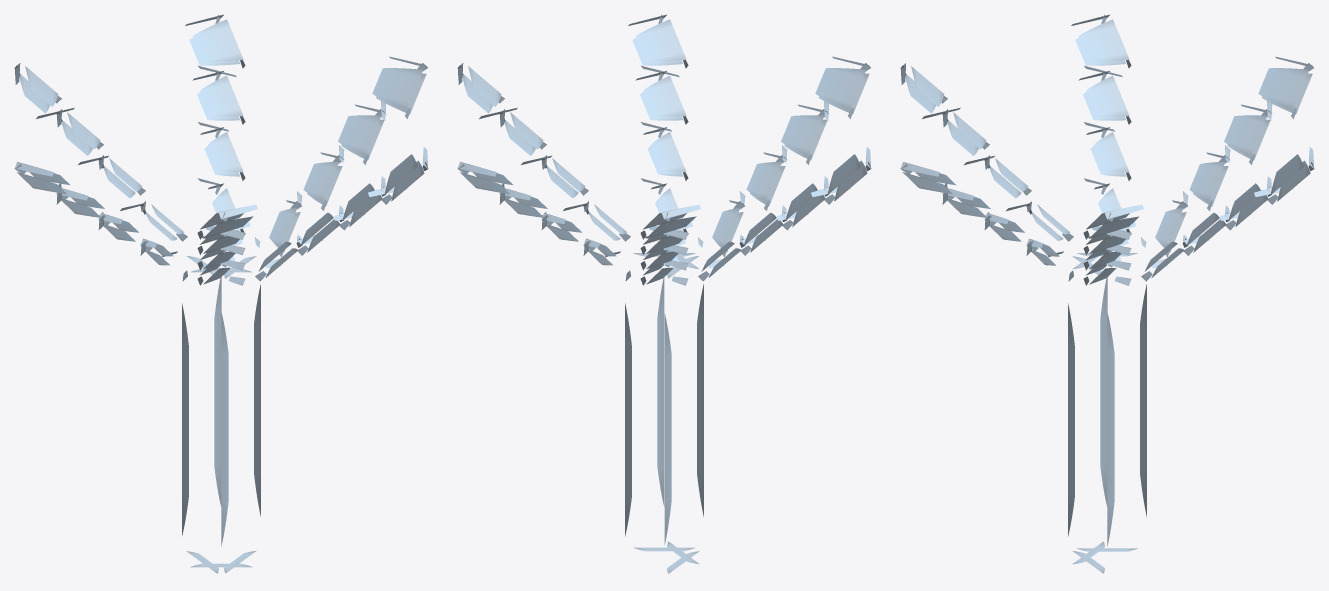
Rendered from rotor_glass.obj.
3 views of the same model, side by side, from view 1: azimuth 30°, elevation 25°; view 2: azimuth 150°, elevation 25°; view 3: azimuth 270°, elevation 25° (orthographic).
Size of the model in its own units: 3.03 by 3.11 by 2.62.
